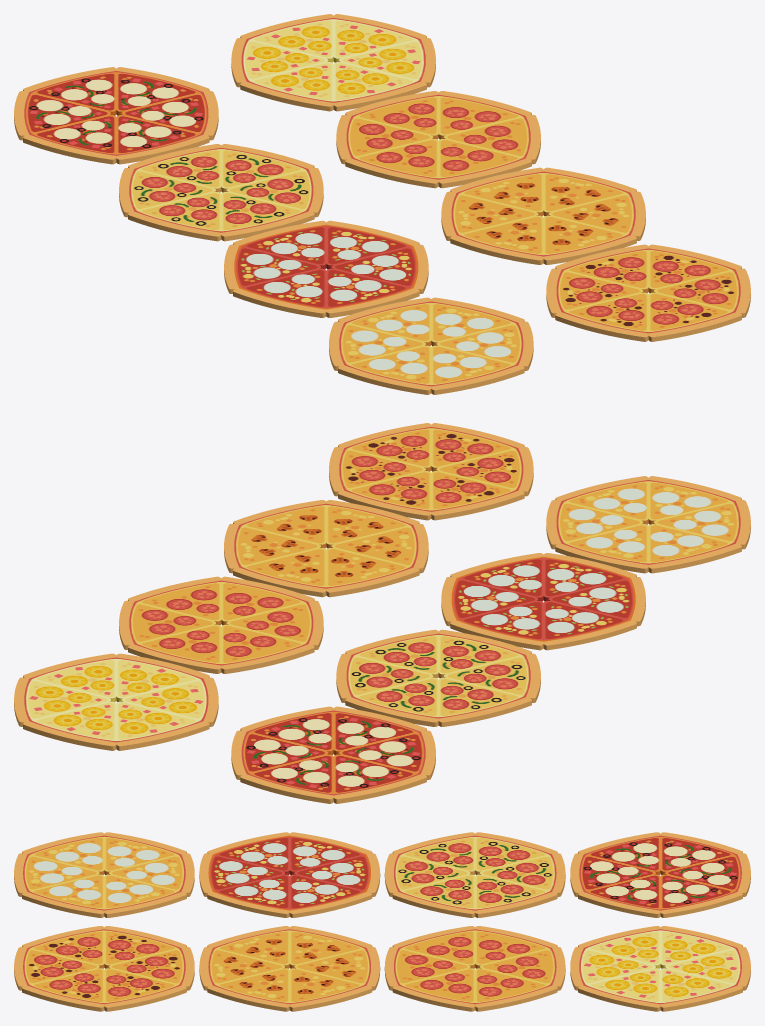
File: maya2sketchfab.fbx
3 views of the same model, one above another, from view 1: azimuth 30°, elevation 25°; view 2: azimuth 150°, elevation 25°; view 3: azimuth 270°, elevation 25° (orthographic). The views are drawn at different scales.
Parts seen in each view (by area): view 1: Four_Cheese_Pizza, Meat_Feast_Pizza, Supreme_Pizza, Hawaiian_Pizza, Mexicana_Pizza, Pepperoni_Pizza, Farm_House_Pizza, Margarita_Pizza; view 2: Mexicana_Pizza, Hawaiian_Pizza, Meat_Feast_Pizza, Margarita_Pizza, Four_Cheese_Pizza, Farm_House_Pizza, Pepperoni_Pizza, Supreme_Pizza; view 3: Margarita_Pizza, Farm_House_Pizza, Pepperoni_Pizza, Supreme_Pizza, Meat_Feast_Pizza, Four_Cheese_Pizza, Hawaiian_Pizza, Mexicana_Pizza.
Part boxes in pixels (x1,y1,x2,y2): Four_Cheese_Pizza: (329, 297, 533, 394); Meat_Feast_Pizza: (546, 244, 750, 341); Supreme_Pizza: (119, 144, 323, 241); Hawaiian_Pizza: (231, 14, 435, 111); Mexicana_Pizza: (14, 67, 218, 164); Pepperoni_Pizza: (336, 91, 540, 188); Farm_House_Pizza: (441, 167, 645, 264); Margarita_Pizza: (224, 220, 428, 317); Mexicana_Pizza: (231, 706, 435, 803); Hawaiian_Pizza: (14, 653, 218, 750); Meat_Feast_Pizza: (329, 423, 533, 520); Margarita_Pizza: (441, 553, 645, 650); Four_Cheese_Pizza: (546, 476, 750, 573); Farm_House_Pizza: (224, 500, 428, 597); Pepperoni_Pizza: (119, 576, 323, 673); Supreme_Pizza: (336, 629, 540, 726); Margarita_Pizza: (199, 832, 380, 917); Farm_House_Pizza: (199, 926, 380, 1011); Pepperoni_Pizza: (384, 926, 565, 1011); Supreme_Pizza: (384, 832, 565, 917); Meat_Feast_Pizza: (14, 926, 194, 1011); Four_Cheese_Pizza: (14, 832, 194, 917); Hawaiian_Pizza: (570, 926, 750, 1011); Mexicana_Pizza: (570, 832, 750, 917).
Bounding box in the file's own units: 91.84 × 1 × 163.
8 materials, 8 textured.
